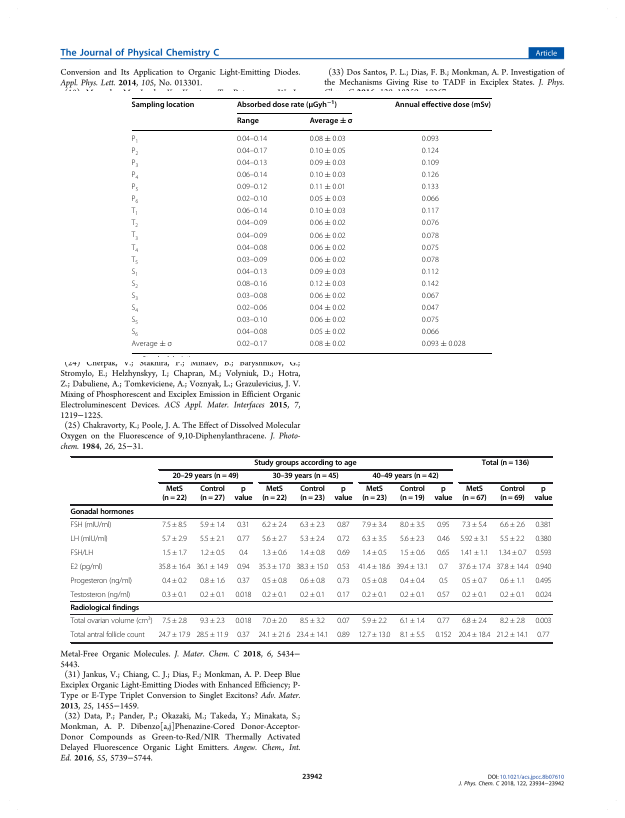borderless: (130, 96, 492, 353), (69, 455, 552, 642)
cell: (236, 99, 338, 110), (394, 100, 492, 110), (253, 459, 357, 468), (70, 615, 153, 626), (271, 472, 340, 482), (70, 631, 146, 640), (171, 472, 239, 482), (371, 472, 439, 482), (70, 507, 135, 517), (131, 100, 195, 110), (70, 576, 133, 586), (70, 604, 140, 613), (70, 590, 131, 600), (161, 485, 188, 504), (199, 485, 226, 504), (261, 485, 288, 504), (299, 485, 326, 504), (361, 485, 388, 504), (399, 485, 426, 504), (461, 485, 488, 504), (499, 485, 526, 504), (481, 459, 530, 468), (309, 116, 353, 126), (70, 520, 112, 530), (421, 340, 467, 349), (70, 534, 109, 544), (130, 340, 173, 349), (333, 485, 353, 504), (433, 485, 453, 504), (533, 485, 553, 504), (309, 134, 347, 144), (309, 146, 347, 156), (309, 255, 347, 265), (309, 267, 347, 277), (234, 485, 253, 504), (309, 159, 347, 168), (309, 171, 347, 180), (309, 183, 347, 192), (309, 195, 347, 204), (309, 207, 347, 216), (309, 219, 347, 228), (309, 231, 347, 240), (309, 243, 347, 252), (309, 280, 347, 289), (309, 292, 347, 301), (309, 304, 347, 313), (309, 316, 347, 325), (309, 328, 347, 337), (309, 340, 347, 349), (157, 562, 191, 572), (195, 562, 229, 572), (257, 562, 291, 572), (295, 562, 329, 572), (357, 562, 391, 572), (395, 562, 429, 572), (457, 562, 491, 572), (495, 562, 529, 572), (70, 562, 103, 572), (236, 134, 268, 144), (236, 146, 268, 156), (236, 255, 268, 265), (236, 267, 268, 277), (459, 548, 490, 558), (497, 548, 528, 558), (157, 631, 191, 640), (195, 631, 229, 640), (257, 631, 291, 640), (295, 631, 329, 640), (357, 631, 391, 640), (457, 631, 491, 640), (495, 631, 529, 640), (459, 534, 489, 544), (236, 159, 268, 168), (236, 171, 268, 180), (236, 183, 268, 192), (236, 195, 268, 204), (236, 207, 268, 216), (236, 219, 268, 228), (236, 231, 268, 240), (236, 243, 268, 252), (236, 280, 268, 289), (236, 292, 268, 301), (236, 304, 268, 313), (236, 316, 268, 325), (236, 328, 268, 337), (236, 340, 268, 349), (161, 520, 188, 530), (199, 520, 226, 530), (261, 520, 288, 530), (299, 520, 326, 530), (361, 520, 388, 530), (399, 520, 426, 530), (461, 520, 488, 530), (499, 520, 526, 530), (161, 534, 188, 544), (199, 534, 226, 544), (261, 534, 288, 544), (299, 534, 326, 544), (361, 534, 388, 544), (399, 534, 426, 544), (499, 534, 526, 544), (161, 548, 188, 558), (199, 548, 226, 558), (261, 548, 288, 558), (299, 548, 326, 558), (361, 548, 388, 558), (399, 548, 426, 558), (161, 576, 188, 586), (199, 576, 226, 586), (261, 576, 288, 586), (299, 576, 326, 586), (361, 576, 388, 586), (399, 576, 426, 586), (461, 576, 488, 586), (499, 576, 526, 586), (161, 590, 188, 600), (199, 590, 226, 600), (261, 590, 288, 600), (299, 590, 326, 600), (361, 590, 388, 600), (399, 590, 426, 600), (461, 590, 488, 600), (499, 590, 526, 600), (161, 617, 188, 626), (199, 617, 226, 626), (261, 617, 288, 626), (299, 617, 326, 626), (361, 617, 388, 626), (399, 617, 426, 626), (461, 617, 488, 626), (499, 617, 526, 626), (399, 631, 426, 640), (70, 548, 94, 558), (236, 116, 260, 126), (421, 134, 440, 144), (421, 146, 440, 156), (421, 255, 440, 265), (421, 267, 440, 277), (534, 520, 552, 530), (534, 534, 552, 544), (534, 548, 552, 558), (534, 562, 552, 572), (534, 576, 552, 586), (234, 590, 252, 600), (534, 590, 552, 600), (421, 159, 440, 168), (421, 171, 440, 180), (421, 183, 440, 192), (421, 195, 440, 204), (421, 207, 440, 216), (421, 219, 440, 228), (421, 231, 440, 240), (421, 243, 440, 252), (421, 280, 440, 289), (421, 292, 440, 301), (421, 304, 440, 313), (421, 316, 440, 325), (421, 328, 440, 337), (234, 617, 252, 626), (534, 617, 552, 626), (434, 631, 452, 640), (236, 520, 251, 530), (336, 520, 351, 530), (336, 548, 351, 558), (436, 548, 451, 558), (336, 562, 351, 572), (236, 576, 251, 586), (336, 576, 351, 586), (336, 590, 351, 600), (436, 520, 450, 530), (236, 534, 250, 544), (336, 534, 350, 544), (436, 534, 450, 544), (236, 562, 250, 572), (436, 590, 450, 600), (336, 617, 351, 626), (336, 631, 351, 640), (436, 617, 450, 626), (236, 631, 250, 640), (536, 631, 550, 640), (238, 548, 249, 558), (438, 562, 449, 572), (438, 576, 449, 586), (130, 207, 139, 218), (130, 219, 139, 230), (130, 231, 139, 242), (130, 243, 139, 254), (130, 255, 139, 266), (130, 267, 139, 278), (130, 316, 139, 327), (130, 328, 139, 339), (130, 280, 139, 290), (130, 292, 139, 302), (130, 304, 139, 314), (131, 134, 139, 145), (131, 146, 139, 157), (131, 195, 139, 206), (131, 159, 139, 169), (131, 171, 139, 181), (131, 183, 139, 193)
